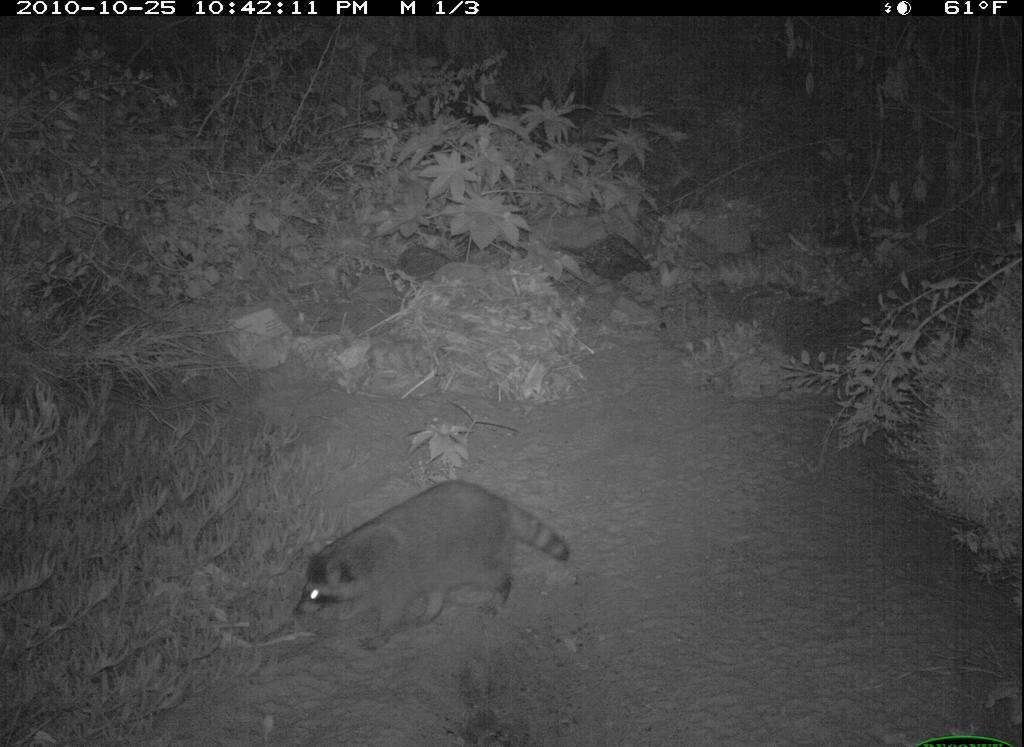raccoon: (286, 461, 582, 666)
